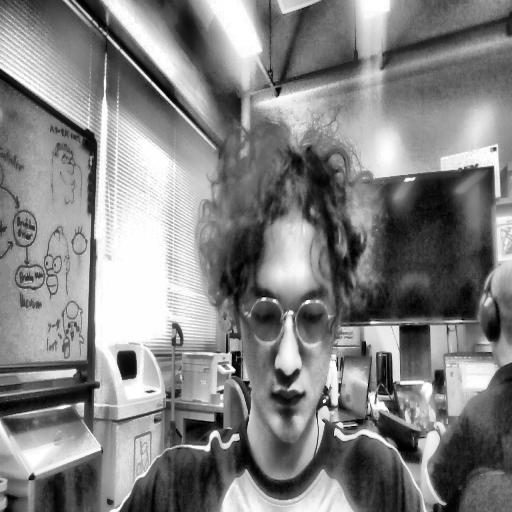Daifuku: (188, 108, 386, 458)
Not Daifuku: (474, 261, 512, 370)
